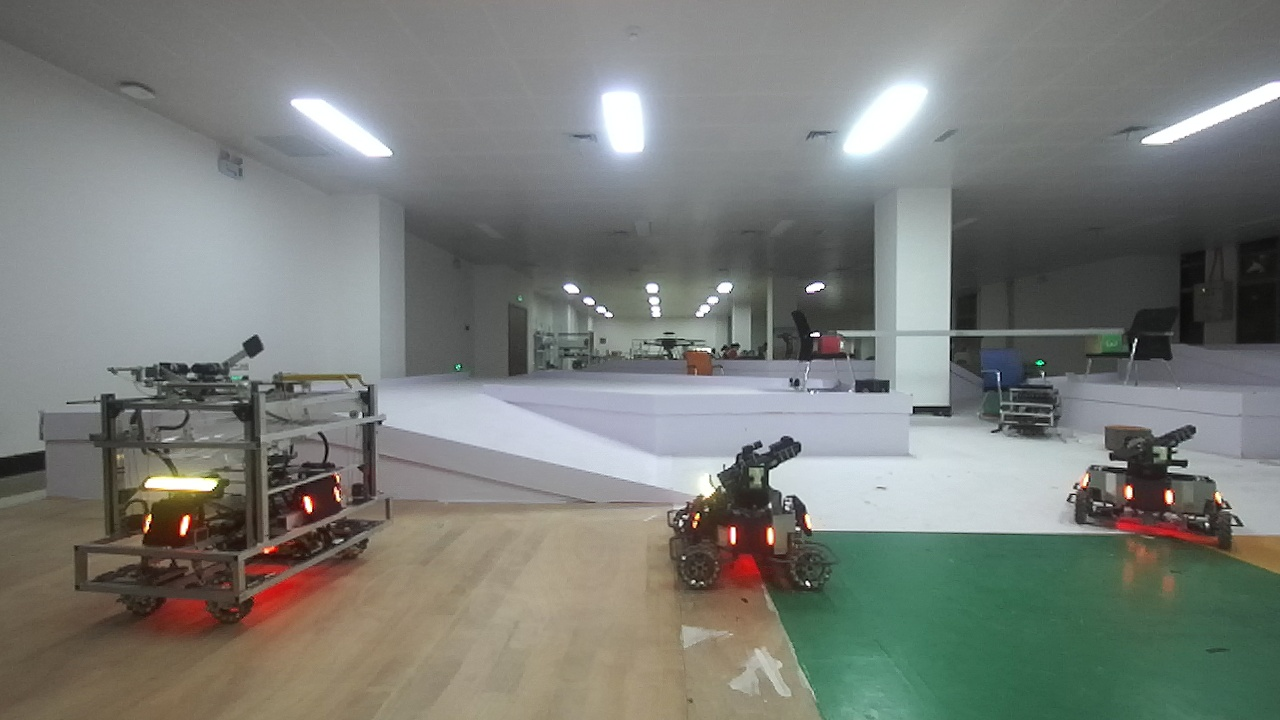car: (75, 343, 400, 629), (651, 428, 850, 607), (1050, 414, 1246, 545)
